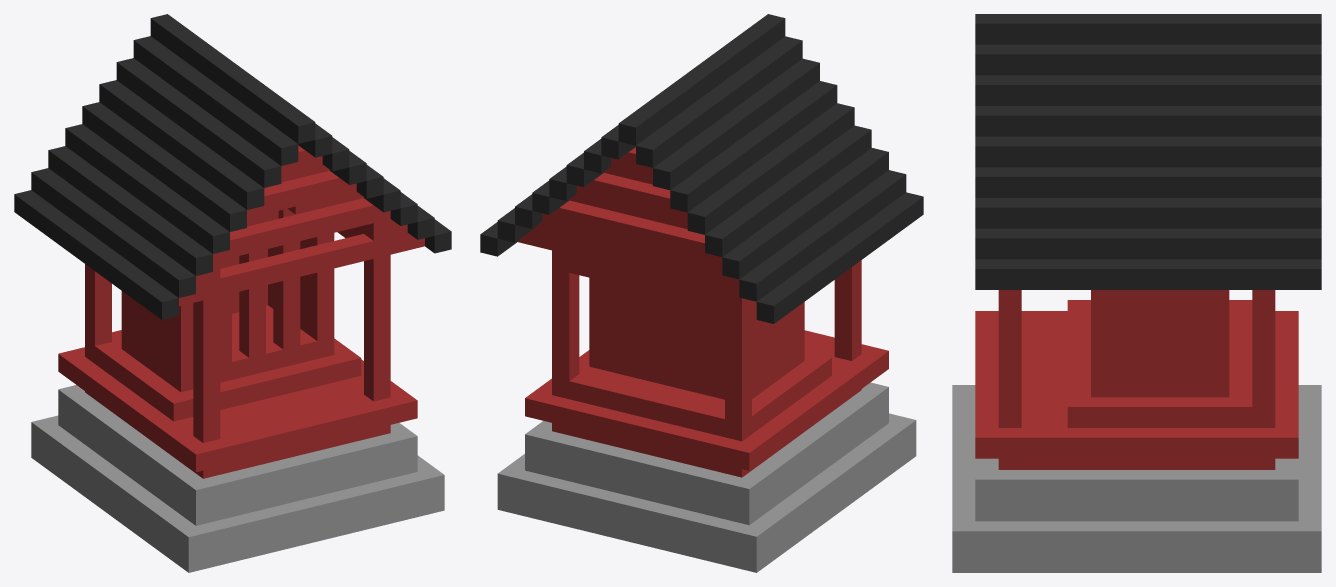
File: mapkari-11.obj
3 views of the same model, side by side, from view 1: azimuth 30°, elevation 25°; view 2: azimuth 150°, elevation 25°; view 3: azimuth 270°, elevation 25° (orthographic). The views are drawn at different scales.
Parts seen in each view (by area): view 1: mapkari-11; view 2: mapkari-11; view 3: mapkari-11.
Boxes of the visible parts, x1,y1,x2,y2 form: mapkari-11: (14,14,451,572); mapkari-11: (480,14,923,572); mapkari-11: (952,14,1321,572).
Size of the model in its own units: 17 by 23 by 16.
Materials: 1 (1 with a texture image).
